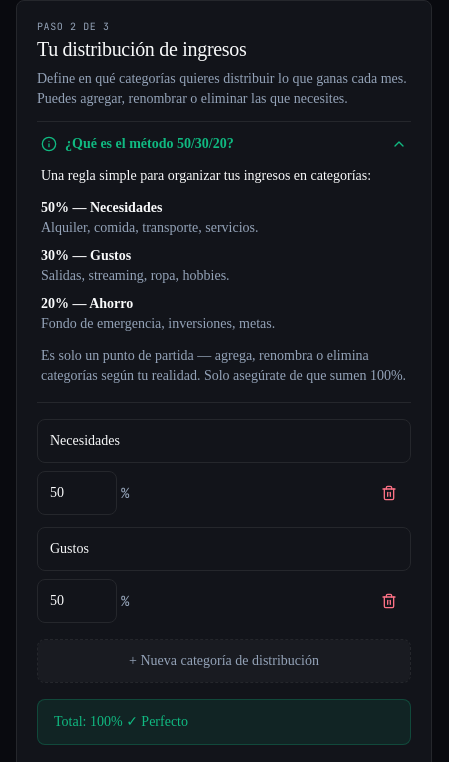
OnboardingStep2 › blocks deleting a bucket that still has expense categories attached
What coordinates should you click on to do the following:
click the button named "eliminar categoría"
I would click on:
 (389, 493)
Its box is [367, 471, 411, 515].
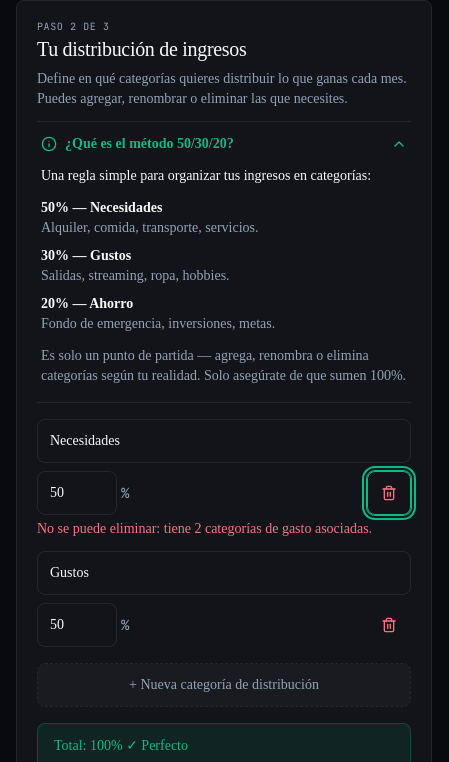
Result: the text "No se puede eliminar: tiene 2 categorías de gasto asociadas." is shown at [37, 519, 411, 539]
